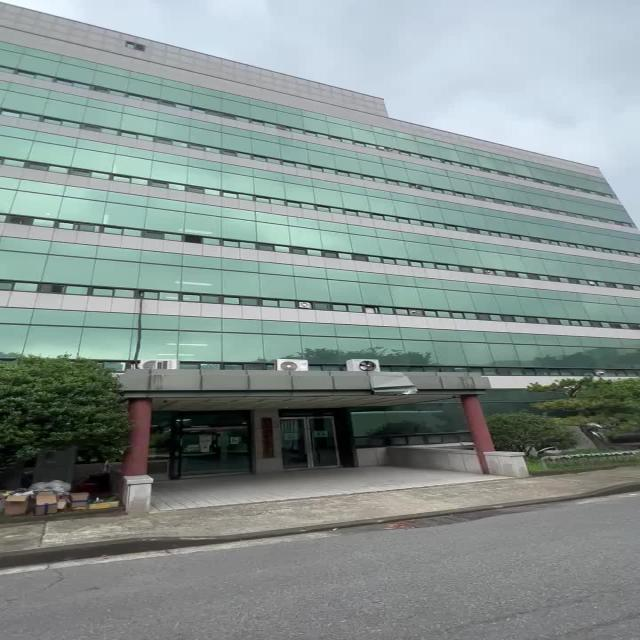building: (41, 106, 624, 361)
